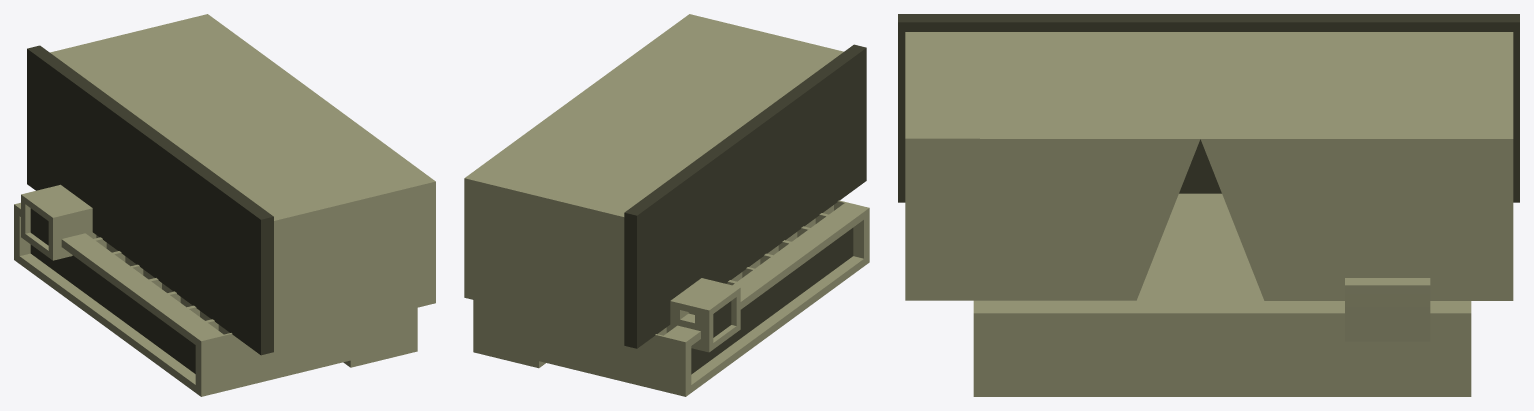
Rendered from SM_Myungshin_B02.FBX.
3 views of the same model, side by side, from view 1: azimuth 30°, elevation 25°; view 2: azimuth 150°, elevation 25°; view 3: azimuth 270°, elevation 25° (orthographic). The views are drawn at different scales.
Parts seen in each view (by area): view 1: Box029; view 2: Box029; view 3: Box029.
Part boxes in pixels (x1,y1,x2,y2): Box029: (14, 14, 435, 396); Box029: (464, 14, 869, 396); Box029: (898, 14, 1519, 396).
Size of the model in its own units: 55.22 by 45.41 by 97.41.
